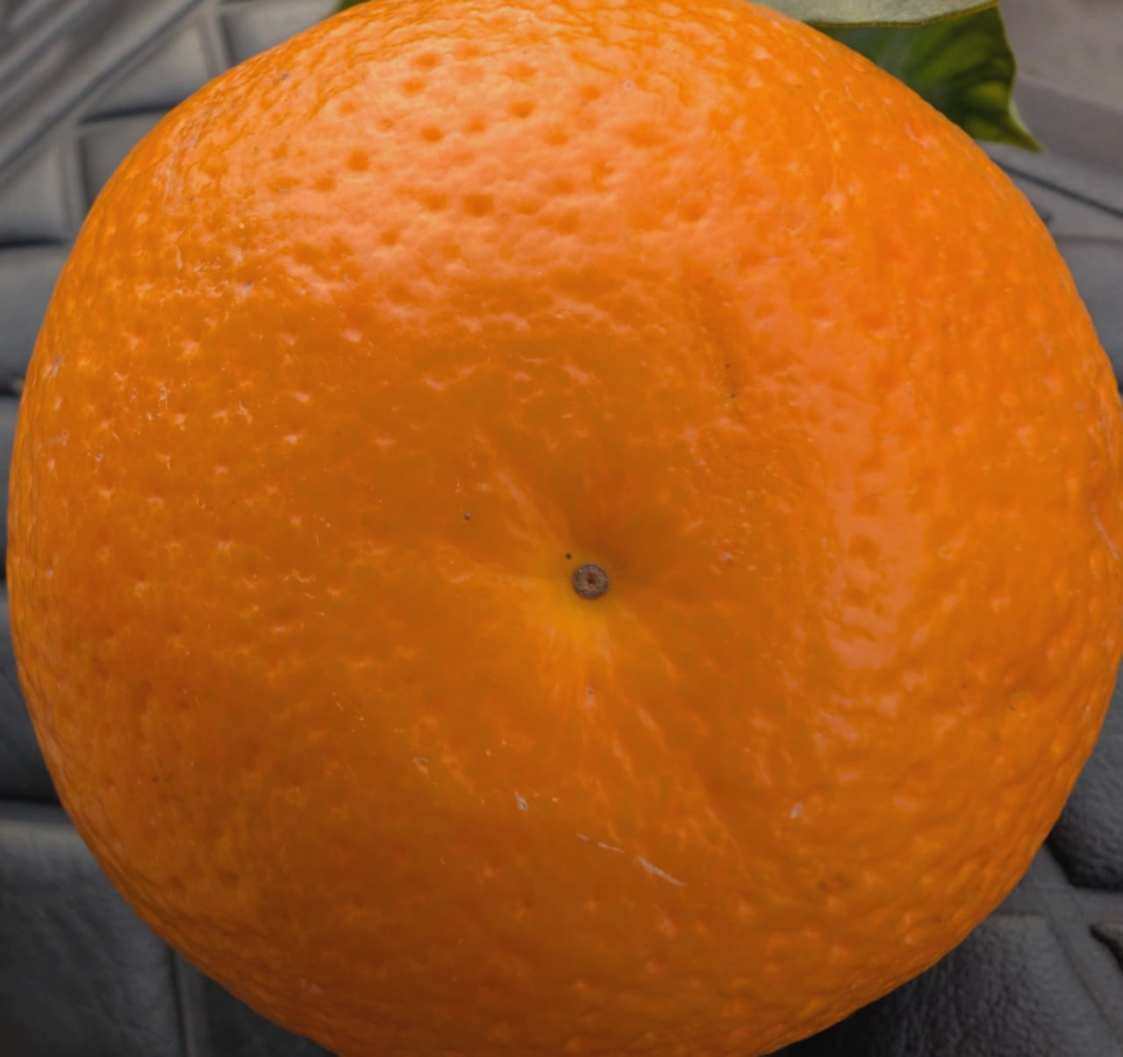orange: (39, 98, 1019, 949)
